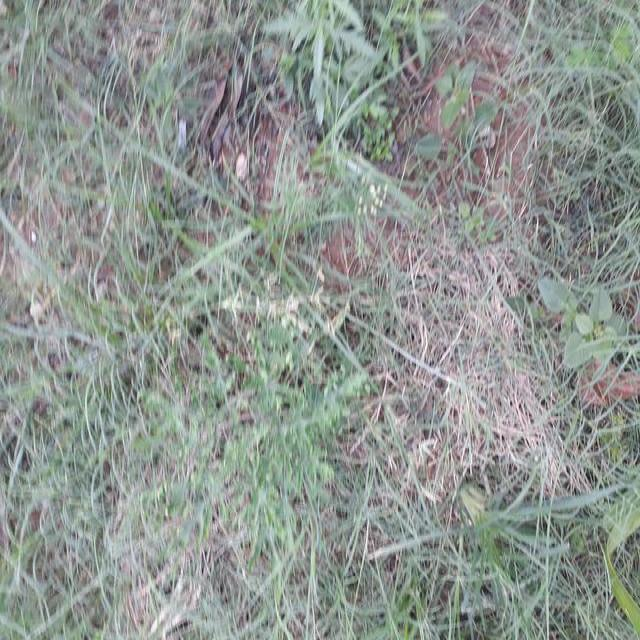weed: (54, 217, 355, 634), (490, 10, 638, 289), (516, 349, 606, 528), (235, 113, 338, 235), (262, 13, 404, 94)
